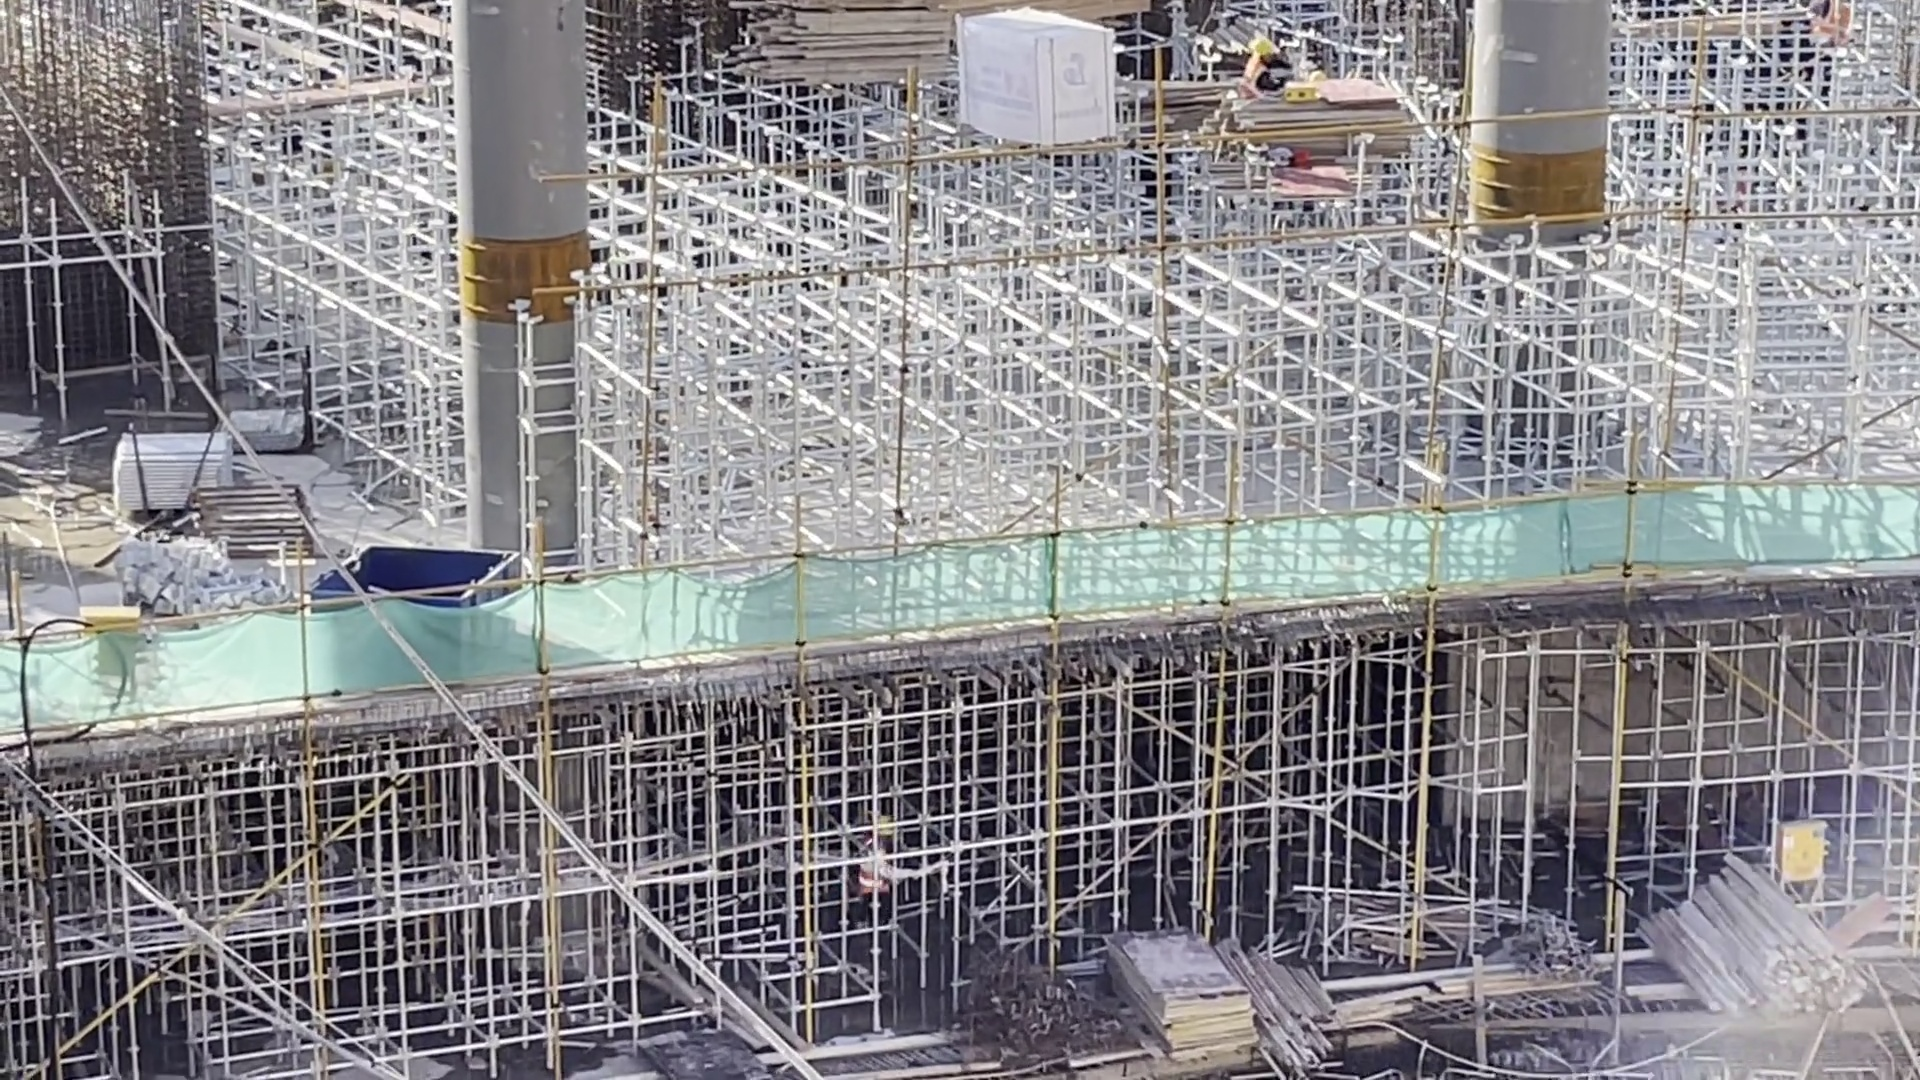board: (1099, 926, 1260, 1061), (1228, 74, 1423, 164)
ebox: (1774, 812, 1833, 891), (77, 601, 144, 622)
helmet: (1252, 39, 1276, 57)
hopper: (304, 539, 530, 580)
person: (1244, 38, 1286, 94)
scaffold: (108, 431, 243, 483)
vest: (1245, 58, 1270, 95)
wood: (1636, 852, 1874, 1020), (714, 4, 952, 89), (1260, 948, 1340, 1072)
